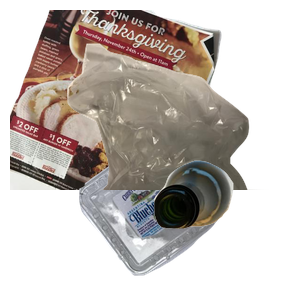glass: (151, 158, 300, 300)
paper: (10, 10, 224, 190)
plastic: (77, 133, 289, 300)
trash: (65, 41, 300, 221)
